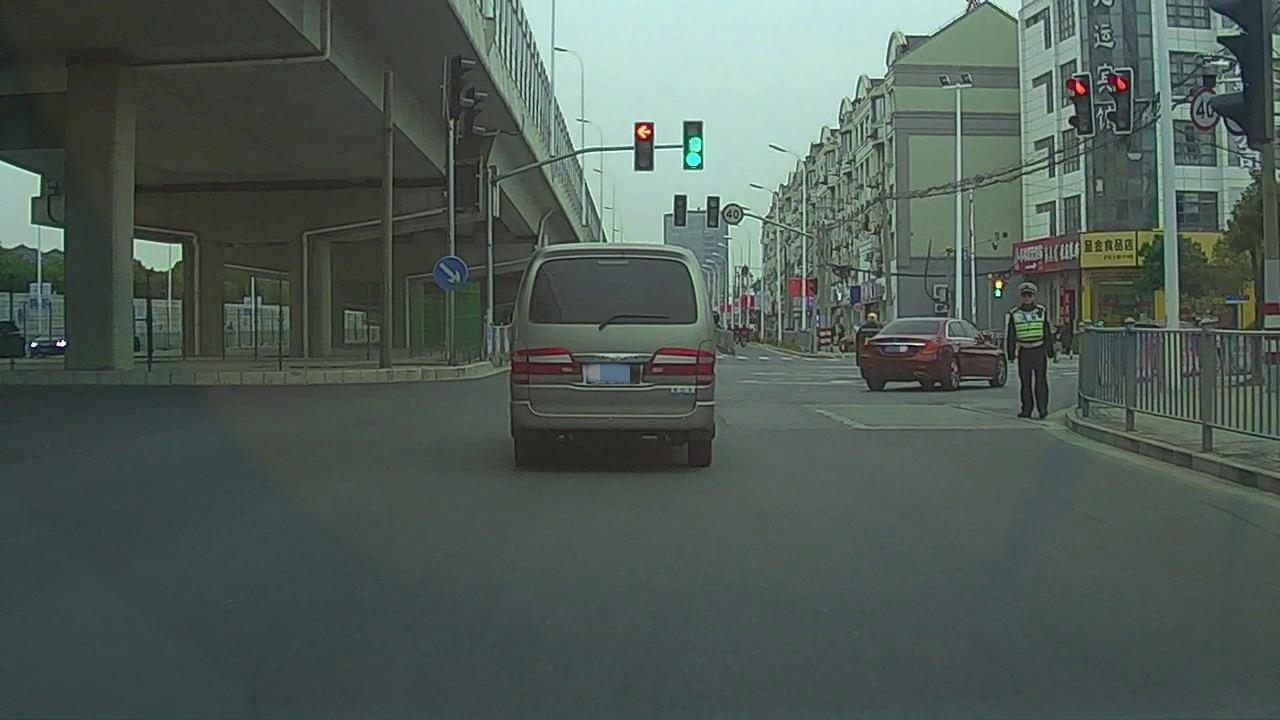traffic_light: (683, 120, 703, 169), (636, 123, 654, 174), (675, 195, 686, 226), (708, 197, 719, 227)
